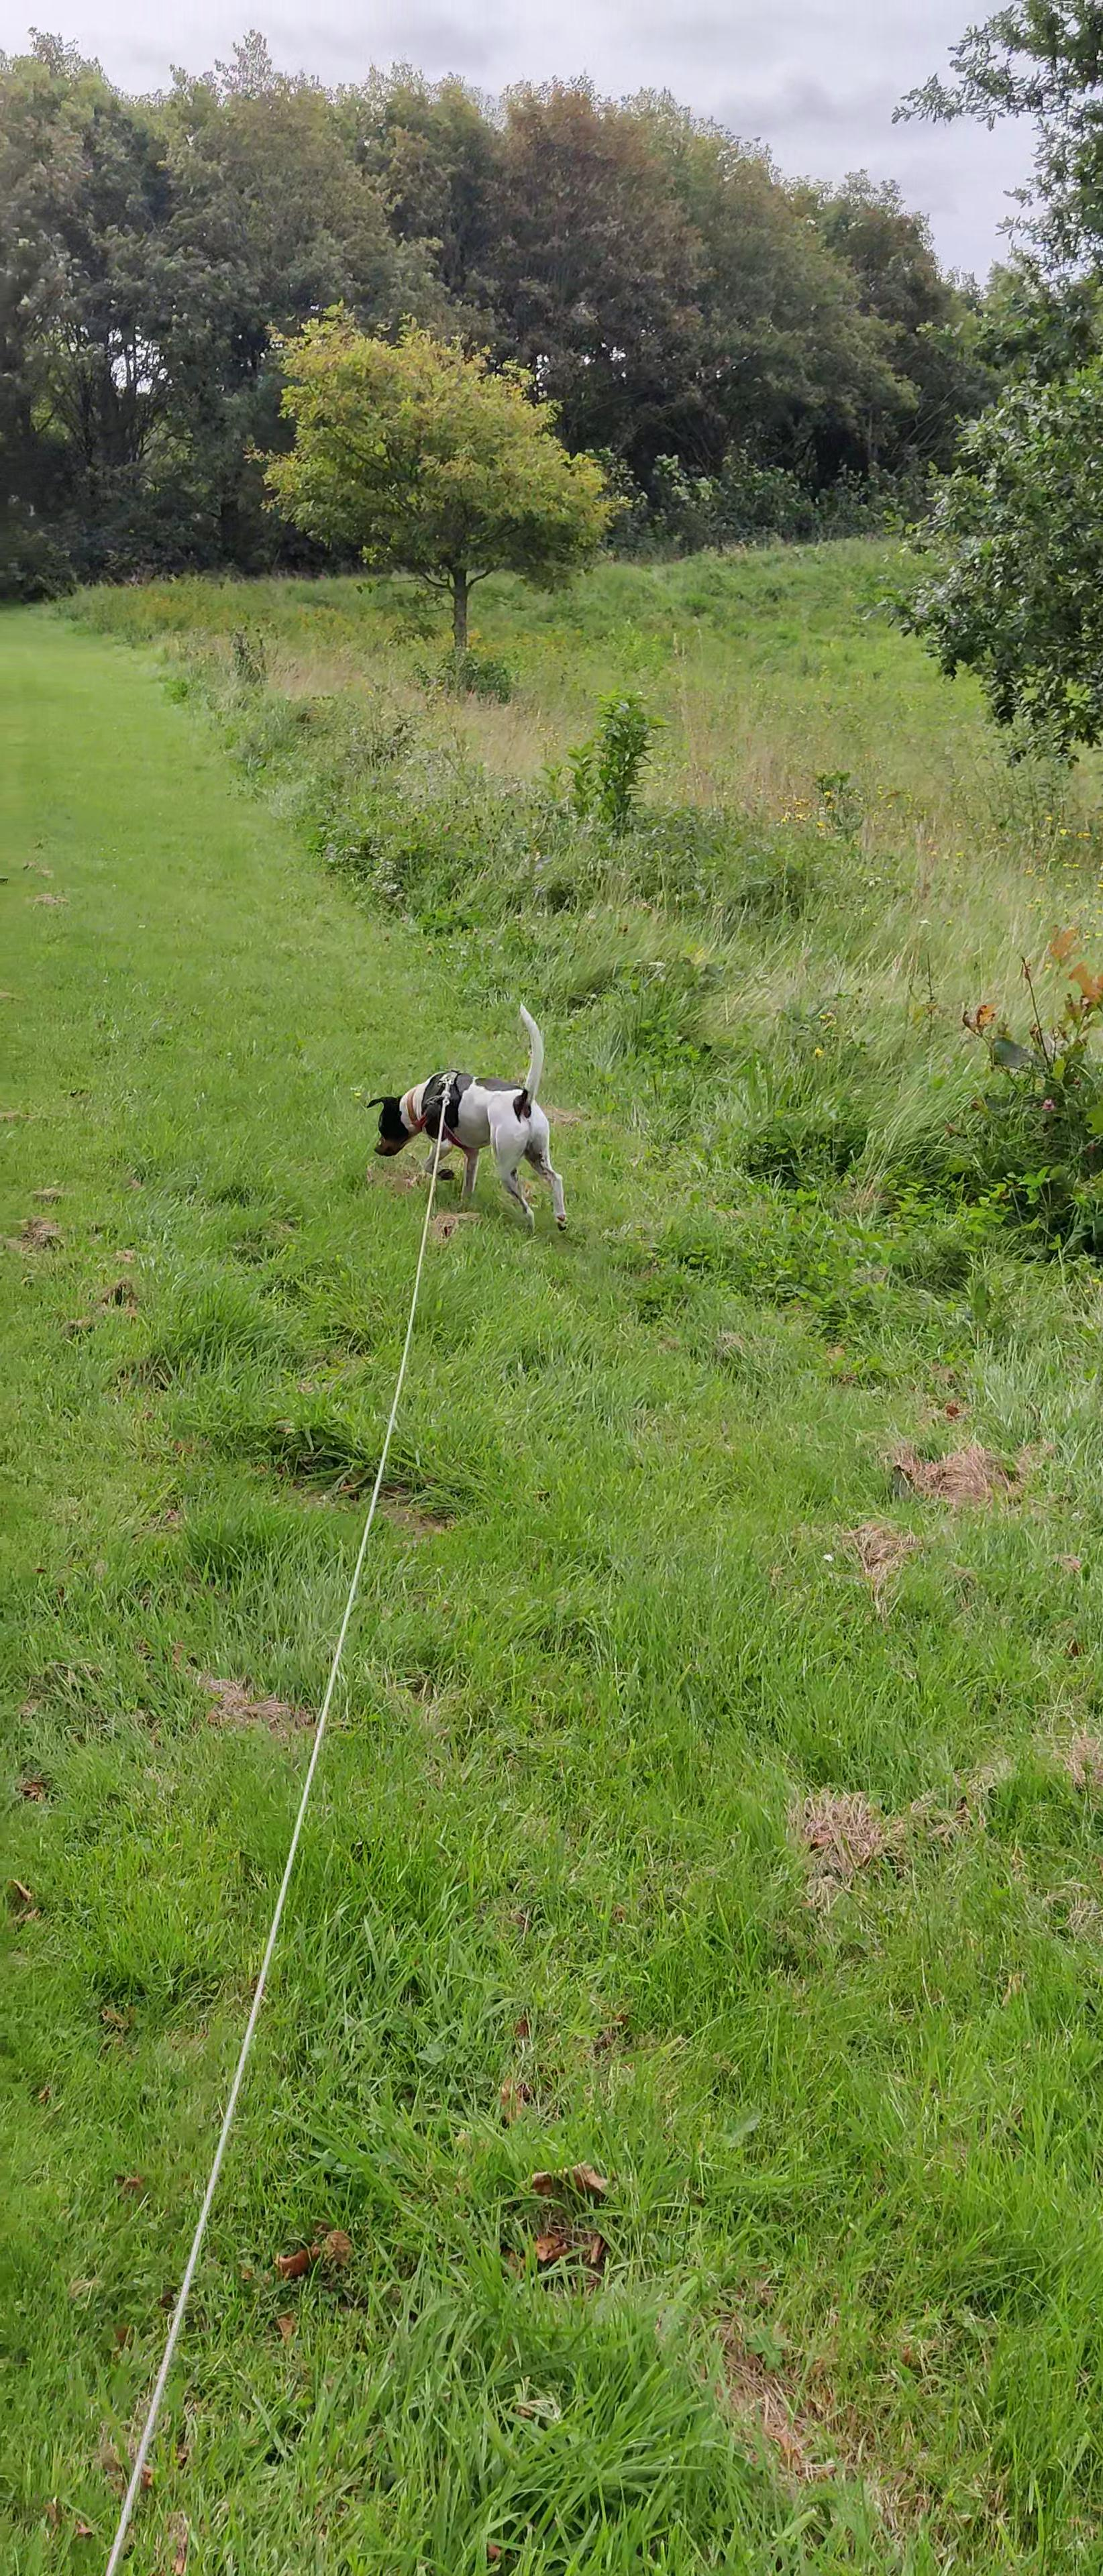Dog: (355, 992, 574, 1250)
